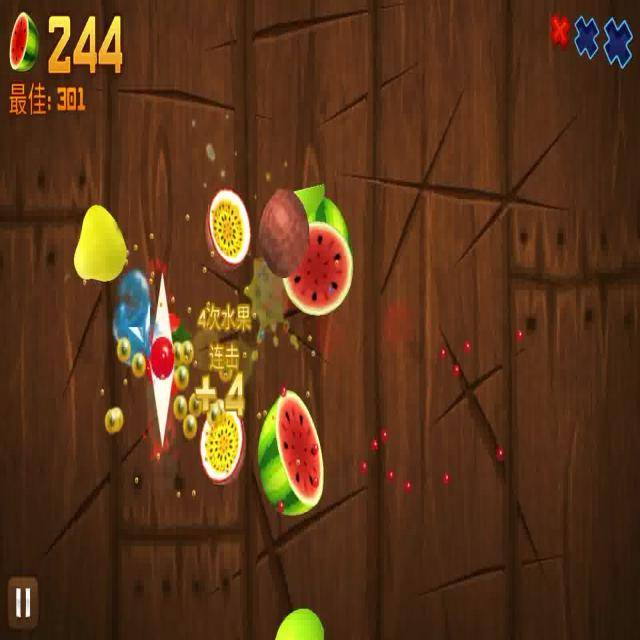fruit: (279, 202, 357, 314), (258, 386, 325, 516), (74, 198, 128, 282), (262, 180, 309, 272), (199, 395, 245, 484), (207, 191, 253, 277), (268, 606, 327, 640), (360, 316, 364, 318)
